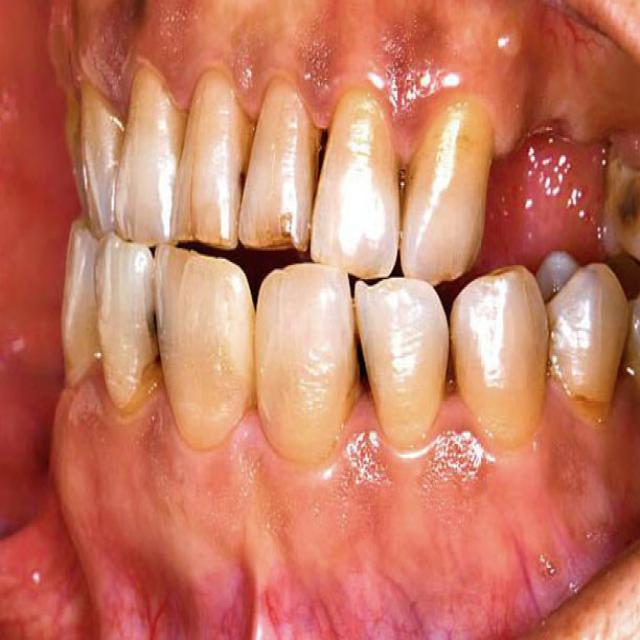caries: (300, 114, 342, 194), (346, 331, 380, 401), (388, 158, 419, 218), (437, 345, 470, 398), (142, 302, 171, 362), (230, 164, 257, 208)
